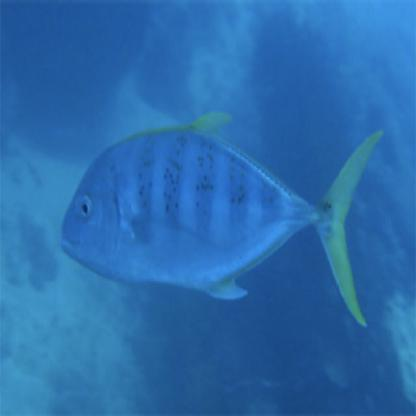Carangidae -Jacks-: (57, 92, 389, 357)
